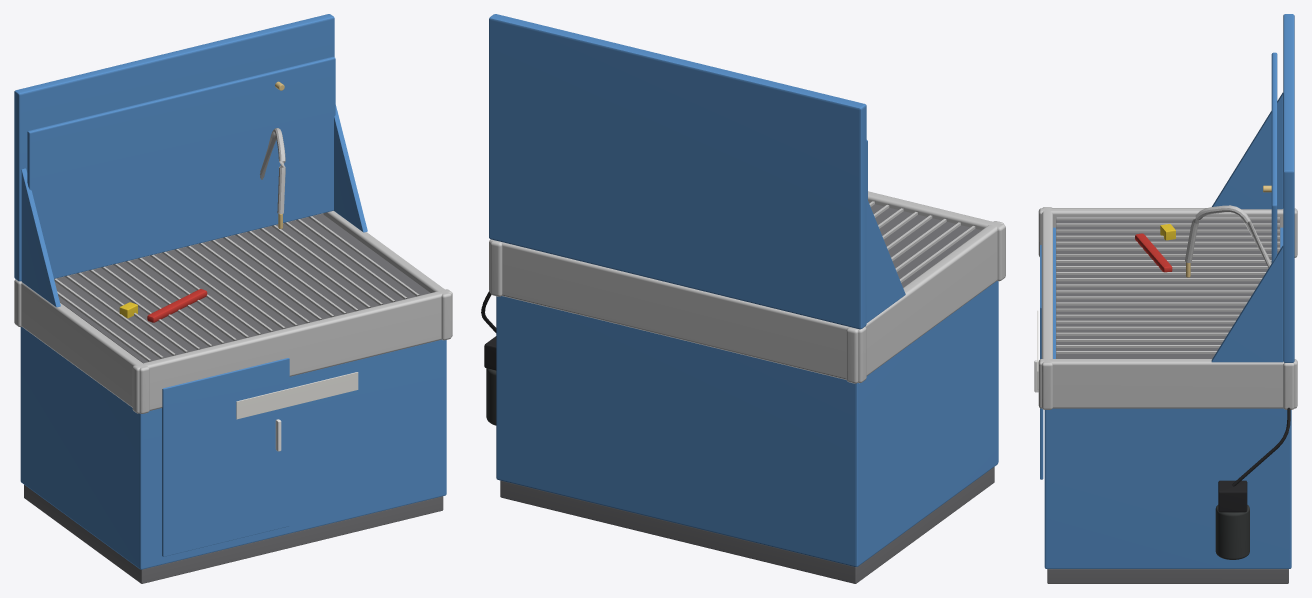
The model's file is industrial.workshop.washer_standard.glb.
3 views of the same model, side by side, from view 1: azimuth 30°, elevation 25°; view 2: azimuth 150°, elevation 25°; view 3: azimuth 270°, elevation 25° (orthographic). The views are drawn at different scales.
Parts seen in each view (by area): view 1: main__paint_59c, main__galv_ccc, main__galv_777, main__paint_eee, main__paint_c33; view 2: main__paint_59c, main__galv_ccc, main__galv_777; view 3: main__paint_59c, main__galv_ccc, main__galv_777, main__paint_333, main__paint_222, main__paint_c33.
Part boxes in pixels (left/top/right/bottom): main__paint_59c: left=14, top=14, right=446, bottom=569; main__galv_ccc: left=14, top=128, right=452, bottom=413; main__galv_777: left=24, top=214, right=443, bottom=583; main__paint_eee: left=236, top=372, right=358, bottom=419; main__paint_c33: left=147, top=289, right=207, bottom=322; main__paint_59c: left=489, top=14, right=998, bottom=566; main__galv_ccc: left=489, top=191, right=1005, bottom=383; main__galv_777: left=500, top=203, right=994, bottom=583; main__paint_59c: left=1040, top=14, right=1294, bottom=568; main__galv_ccc: left=1038, top=205, right=1297, bottom=409; main__galv_777: left=1047, top=217, right=1288, bottom=583; main__paint_333: left=1215, top=505, right=1249, bottom=559; main__paint_222: left=1218, top=407, right=1290, bottom=512; main__paint_c33: left=1135, top=233, right=1172, bottom=272.
Bounding box in the file's own units: 1.42 × 1.6 × 0.915.
